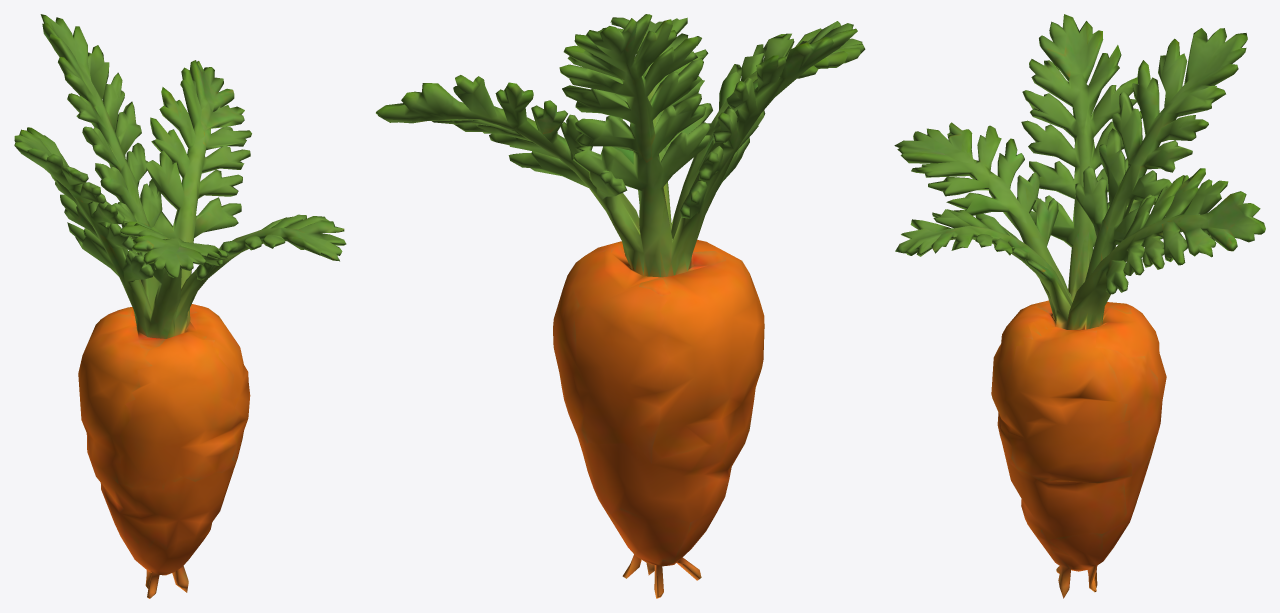
Rendered from carrot_l1.glb.
The picture shows the model from 3 angles, left to right: view 1: azimuth 30°, elevation 25°; view 2: azimuth 150°, elevation 25°; view 3: azimuth 270°, elevation 25°; orthographic projection. The views are drawn at different scales.
Visible parts, largest first — view 1: tripo_node_b251bc0d-c480-4494-8b14-11b0a0f4448c; view 2: tripo_node_b251bc0d-c480-4494-8b14-11b0a0f4448c; view 3: tripo_node_b251bc0d-c480-4494-8b14-11b0a0f4448c.
Boxes of the visible parts, x1,y1,x2,y2 form: tripo_node_b251bc0d-c480-4494-8b14-11b0a0f4448c: (14,14,346,598); tripo_node_b251bc0d-c480-4494-8b14-11b0a0f4448c: (376,14,865,598); tripo_node_b251bc0d-c480-4494-8b14-11b0a0f4448c: (894,14,1265,598).
Bounding box in the file's own units: 0.5841 × 0.9817 × 0.6107.
1 material, 1 textured.
